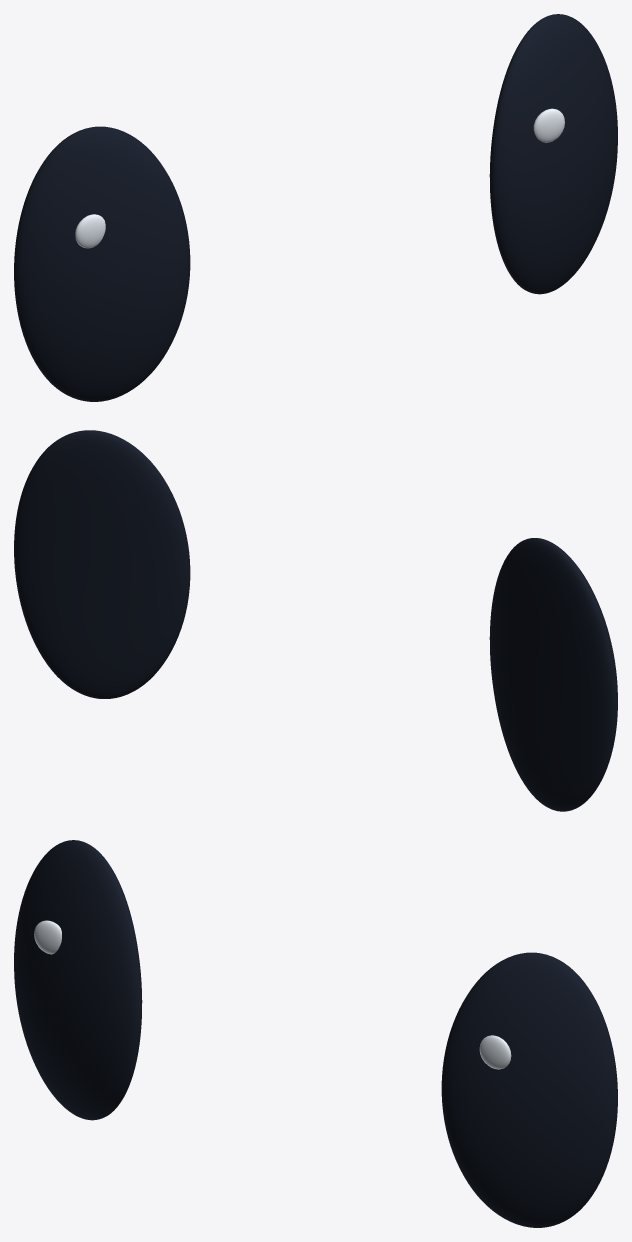
The model's file is Feminine-eyes-original.glb.
3 renders of one model, top to bottom at view 1: azimuth 30°, elevation 25°; view 2: azimuth 150°, elevation 25°; view 3: azimuth 330°, elevation 25°, orthographic.
Parts seen in each view (by area): view 1: Eye / dark oval -1, Eye / dark oval 1, Eye highlight / Eye / dark oval 1 0, Eye highlight / Eye / dark oval -1 0; view 2: Eye / dark oval 1, Eye / dark oval -1; view 3: Eye / dark oval 1, Eye / dark oval -1, Eye highlight / Eye / dark oval 1 0, Eye highlight / Eye / dark oval -1 0.
Part boxes in pixels (box(x1,y1,x2,y2)): Eye / dark oval -1: box(14, 126, 190, 401); Eye / dark oval 1: box(489, 14, 617, 294); Eye highlight / Eye / dark oval 1 0: box(533, 108, 564, 142); Eye highlight / Eye / dark oval -1 0: box(75, 214, 105, 248); Eye / dark oval 1: box(14, 430, 190, 698); Eye / dark oval -1: box(489, 538, 617, 811); Eye / dark oval 1: box(441, 952, 617, 1227); Eye / dark oval -1: box(14, 840, 142, 1120); Eye highlight / Eye / dark oval 1 0: box(479, 1035, 511, 1069); Eye highlight / Eye / dark oval -1 0: box(34, 920, 61, 954).
Size of the model in its own units: 0.4 by 0.172 by 0.0391.
